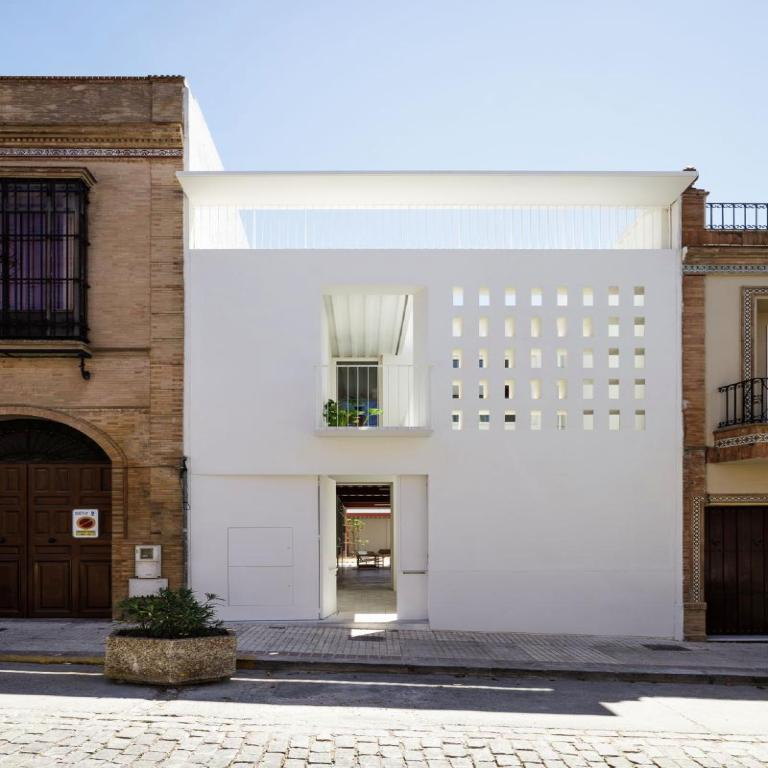white-walls: (464, 460, 650, 607)
